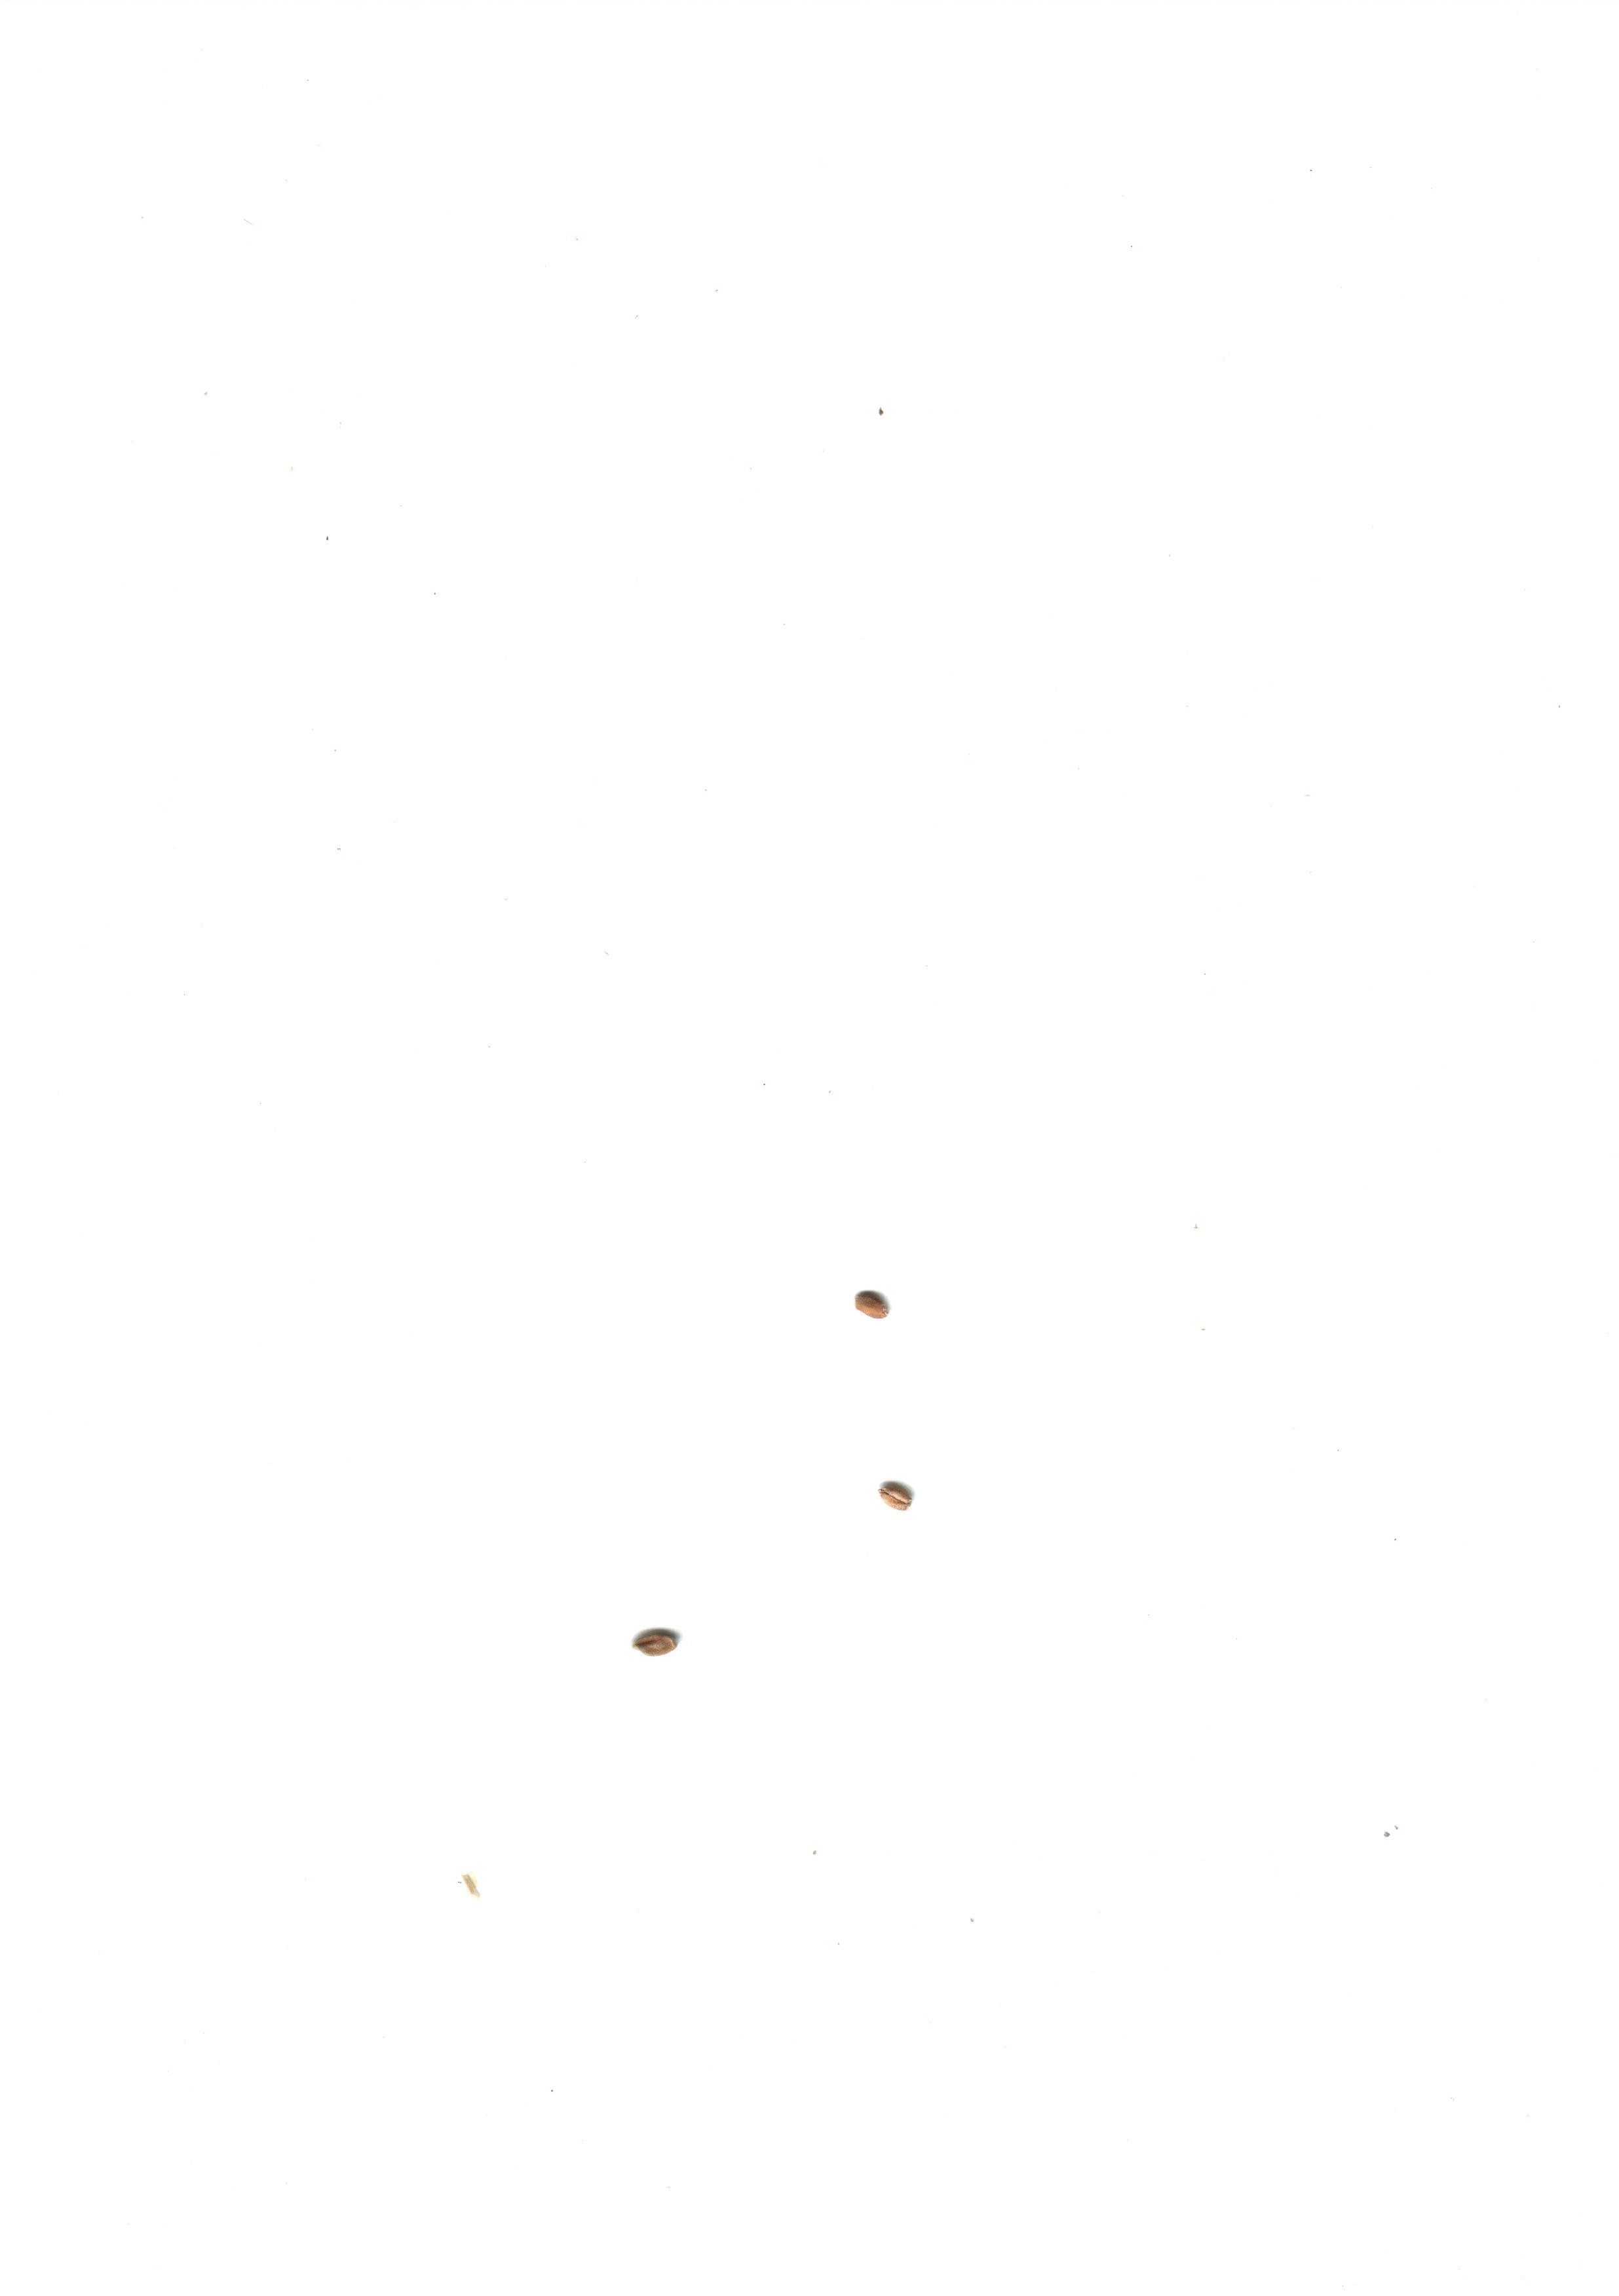grains_2mm: (853, 1456, 936, 1535), (838, 1262, 918, 1341), (617, 1602, 697, 1681)
